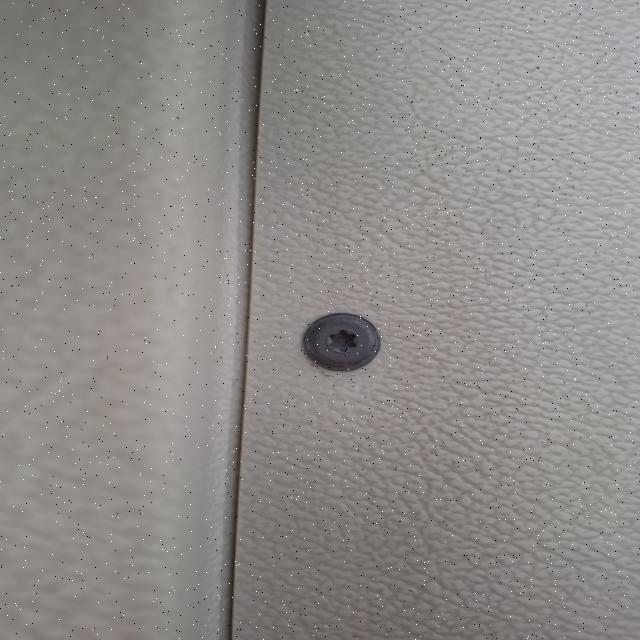Torx: (298, 313, 378, 377)
